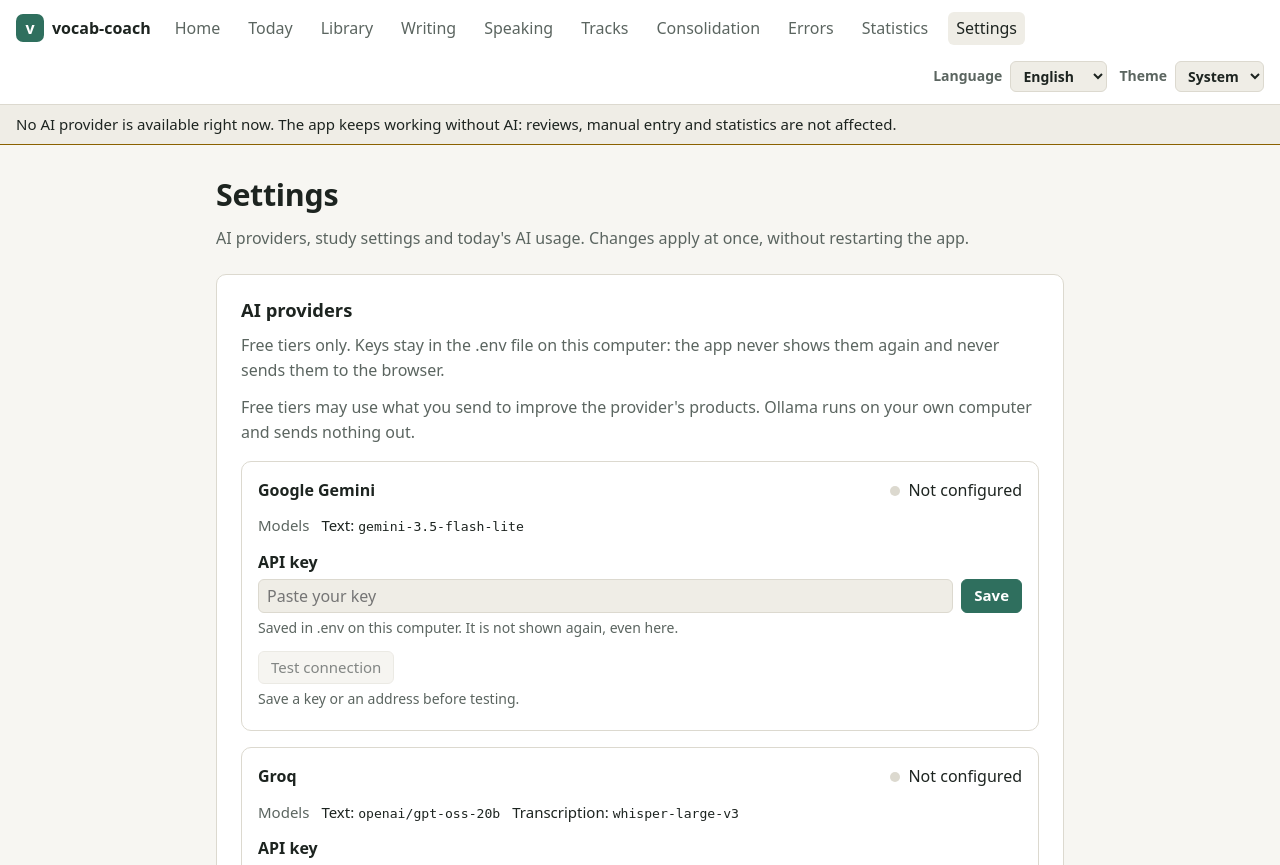
Test: Settings page: providers › says when the backend cannot be reached
Type "AIzaSy-invented-key-1234567890" into the 1st password field labelled "API key". click: (606, 596)
box: [258,578,953,613]
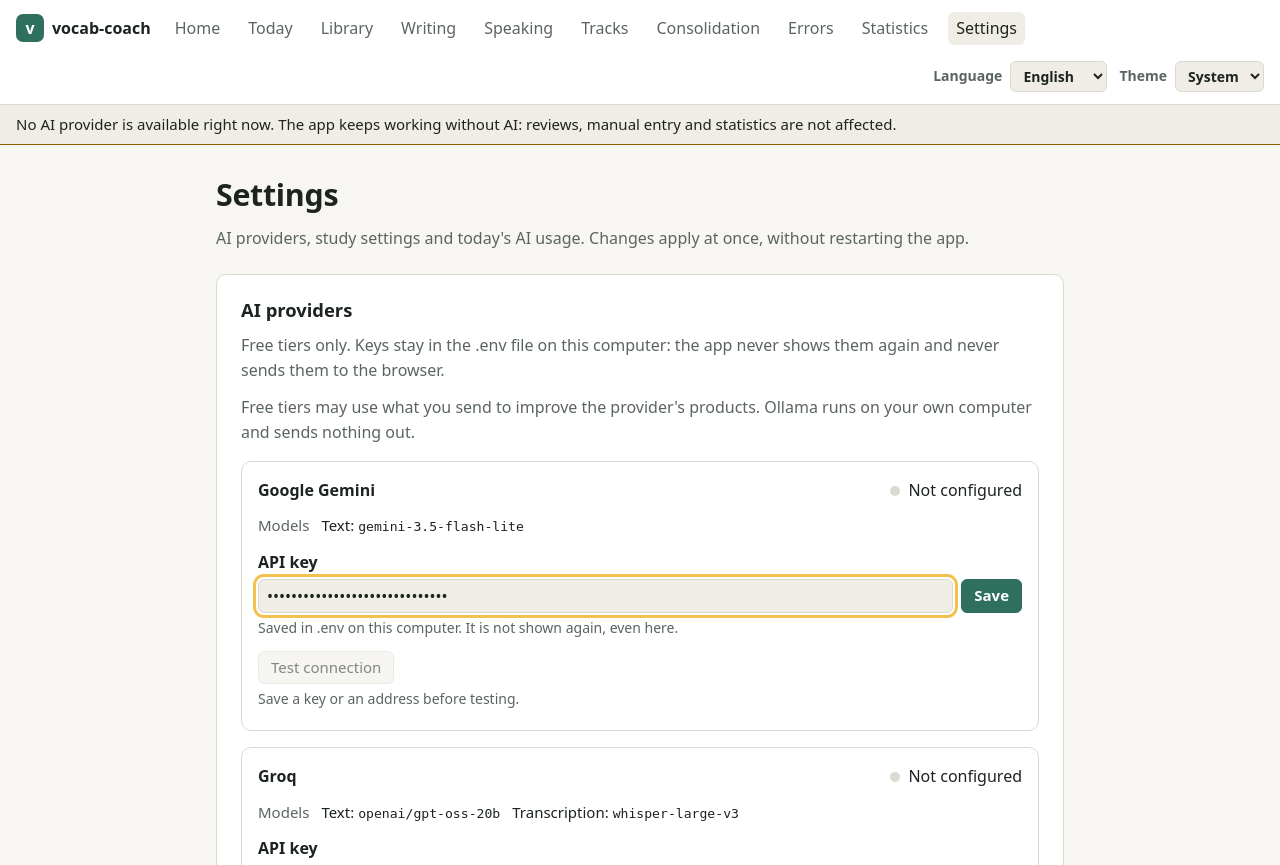
Click the 1st button "Save". click: (992, 596)
box: [961,578,1022,613]
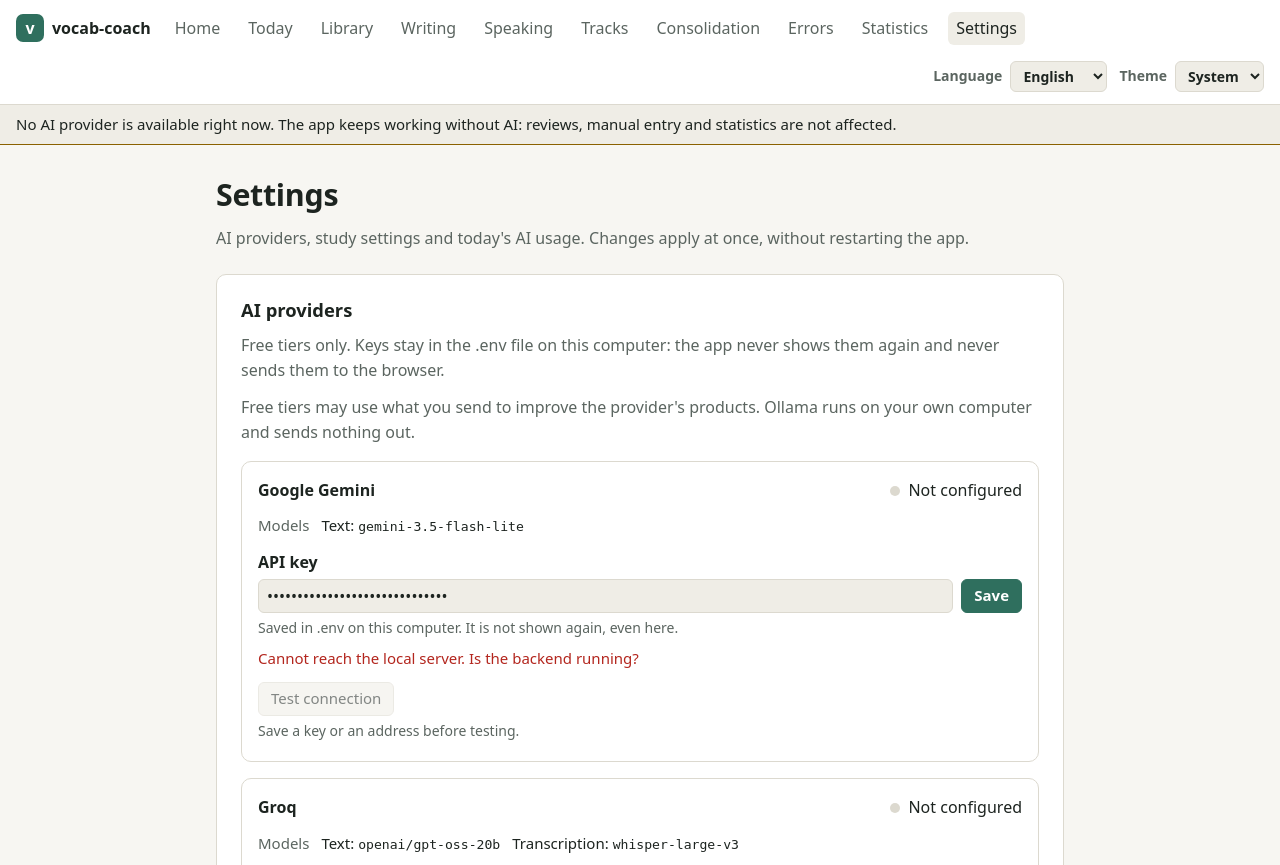
Expected: the message "Cannot reach the local server. Is the backend running?" is shown, [258,648,639,668]
